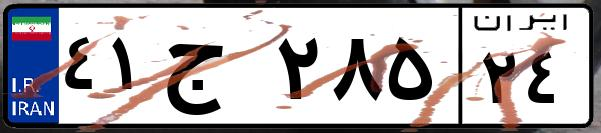1: (110, 28, 158, 98)
2: (270, 28, 330, 110), (475, 38, 525, 113)
4: (57, 26, 110, 100), (525, 38, 570, 115)
5: (385, 28, 445, 110)
8: (330, 28, 385, 110)
ج: (158, 20, 270, 120)
